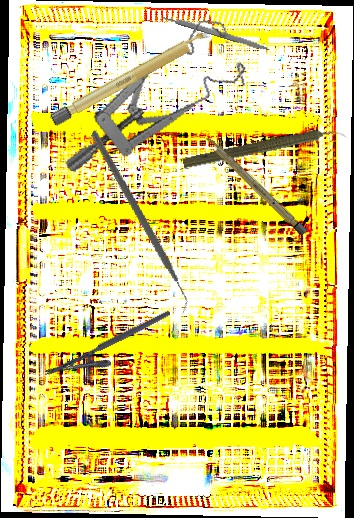Chopper: (34, 129, 241, 319)
Handpiece: (181, 121, 348, 175)
Needle Holder: (43, 309, 180, 394)
Scalpel Handle: (48, 26, 215, 128), (203, 134, 308, 237), (160, 12, 272, 53)
Speculum: (37, 13, 261, 174)
